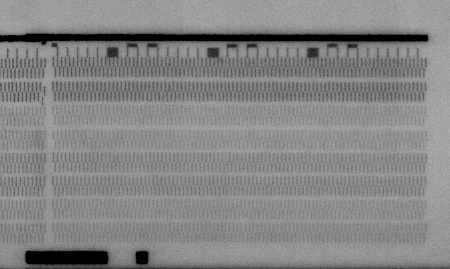Oblique printing: (37, 82, 51, 106)
